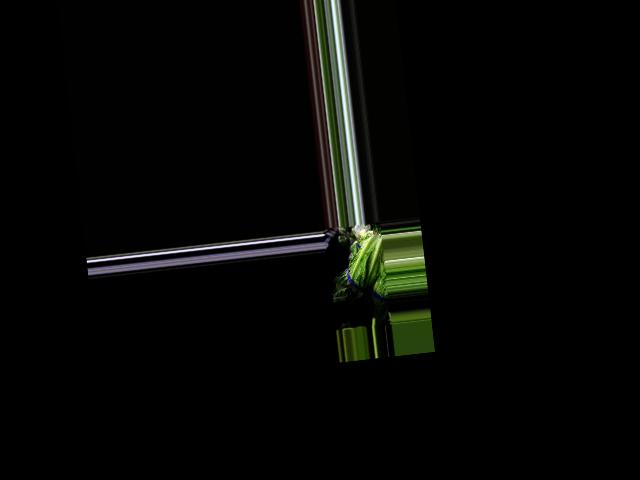lettuce: (330, 237, 389, 306)
